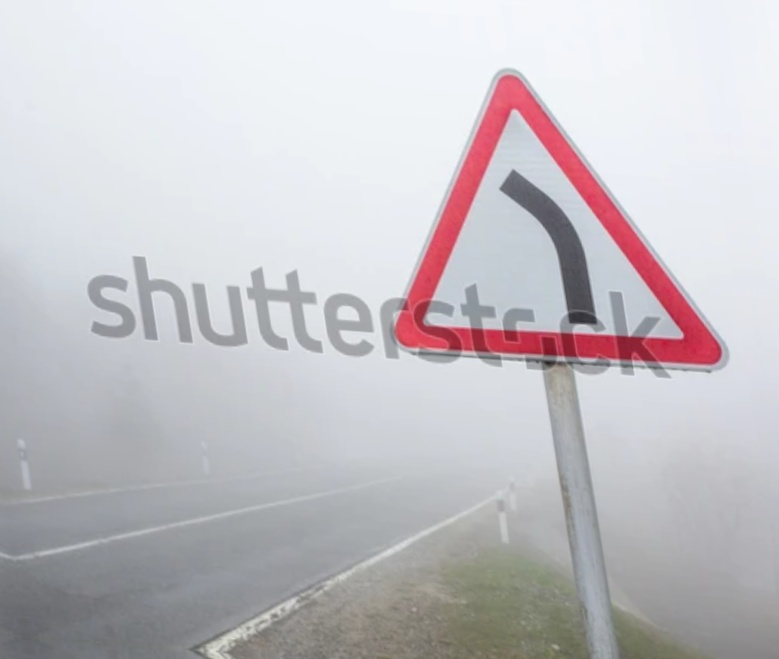Turn left: (376, 58, 728, 404)
